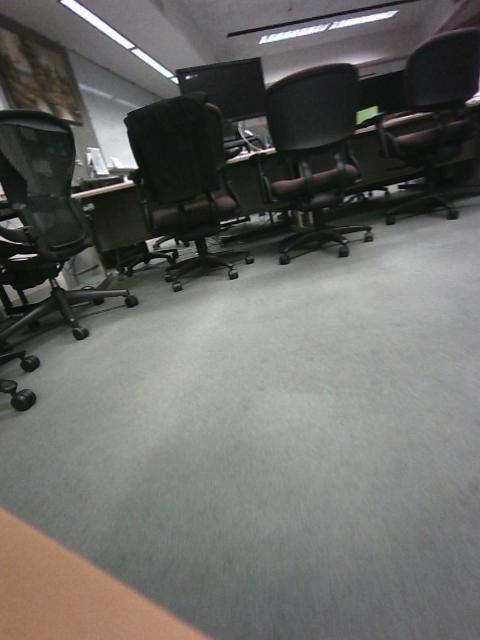block: (233, 341, 285, 397)
